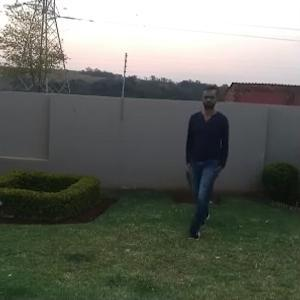follow: (183, 85, 231, 233)
